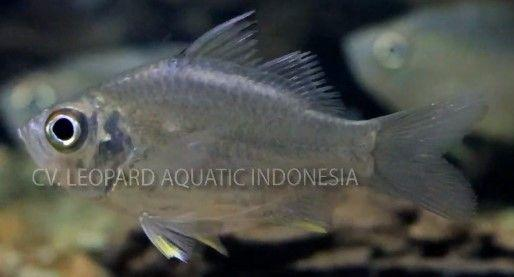Glass Perchlet: (22, 11, 482, 259)
